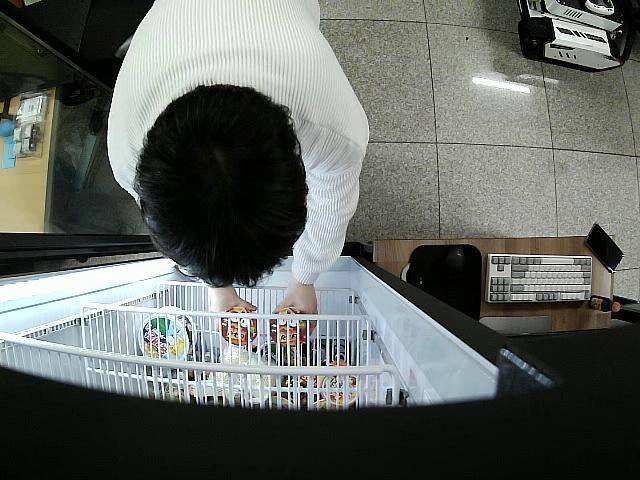06_nuguri_S: (270, 307, 312, 347), (220, 307, 260, 347)
